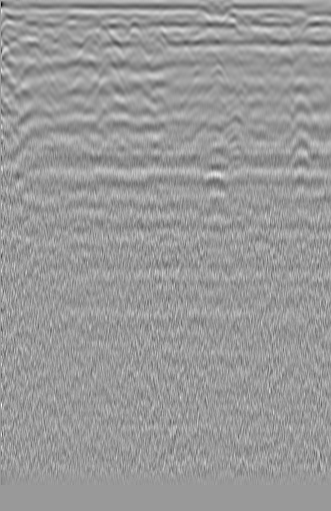가스: (196, 164, 233, 196)
상수: (289, 42, 322, 76)
오수: (4, 35, 42, 68)
우수: (144, 21, 177, 61)
